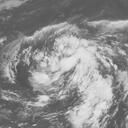cyclone: (30, 33, 108, 104)
